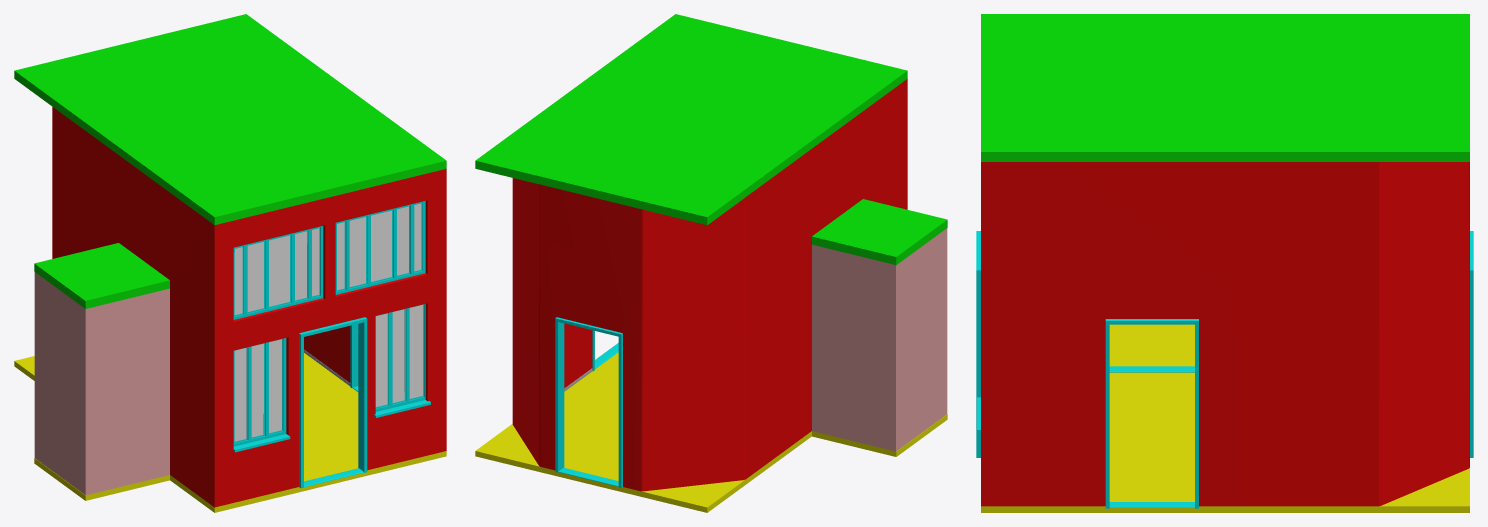
File: FloorPlan504_physics.fbx
3 views of the same model, side by side, from view 1: azimuth 30°, elevation 25°; view 2: azimuth 150°, elevation 25°; view 3: azimuth 270°, elevation 25° (orthographic). The views are drawn at different scales.
Parts seen in each view (by area): view 1: FP504:Walls_1, FP504:Ceiling_1, FP504:Walls_2, FP504:Floor_1, FP504:Ceiling_2, FP504:WindowPane_4, FP504:WindowPane_3, FP504:WindowPane_2, FP504:WindowPane_1, FP504:DoorFrame_1, FP504:WindowFrame_3, FP504:WindowFrame_4 (+4 smaller); view 2: FP504:Walls_1, FP504:Ceiling_1, FP504:Walls_2, FP504:Floor_1, FP504:Ceiling_2, FP504:DoorFrame_3, FP504:Floor_2; view 3: FP504:Walls_1, FP504:Ceiling_1, FP504:Floor_1, FP504:Floor_2, FP504:DoorFrame_2, FP504:DoorFrame_1, FP504:DoorFrame_3, FP504:Floorboard_4.
Part boxes in pixels (box(x1,y1,x2,y2)): FP504:Walls_1: box(52, 107, 446, 507); FP504:Ceiling_1: box(14, 14, 446, 225); FP504:Walls_2: box(34, 272, 169, 495); FP504:Floor_1: box(14, 353, 446, 512); FP504:Ceiling_2: box(34, 243, 169, 308); FP504:WindowPane_4: box(234, 228, 319, 314); FP504:WindowPane_3: box(337, 203, 421, 290); FP504:WindowPane_2: box(375, 305, 422, 406); FP504:WindowPane_1: box(234, 339, 281, 441); FP504:DoorFrame_1: box(299, 317, 367, 488); FP504:WindowFrame_3: box(335, 201, 425, 294); FP504:WindowFrame_4: box(233, 226, 323, 319); FP504:Walls_1: box(512, 79, 907, 491); FP504:Ceiling_1: box(475, 14, 907, 225); FP504:Walls_2: box(812, 228, 947, 451); FP504:Floor_1: box(475, 352, 811, 512); FP504:Ceiling_2: box(812, 199, 947, 265); FP504:DoorFrame_3: box(555, 317, 622, 487); FP504:Floor_2: box(812, 414, 947, 456); FP504:Walls_1: box(981, 162, 1469, 506); FP504:Ceiling_1: box(981, 14, 1469, 161); FP504:Floor_1: box(981, 372, 1469, 512); FP504:Floor_2: box(1109, 324, 1194, 366); FP504:DoorFrame_2: box(1105, 319, 1198, 508); FP504:DoorFrame_1: box(976, 231, 980, 457); FP504:DoorFrame_3: box(1470, 231, 1473, 457); FP504:Floorboard_4: box(1109, 366, 1194, 372).
Size of the model in its own units: 449 by 397 by 495.
